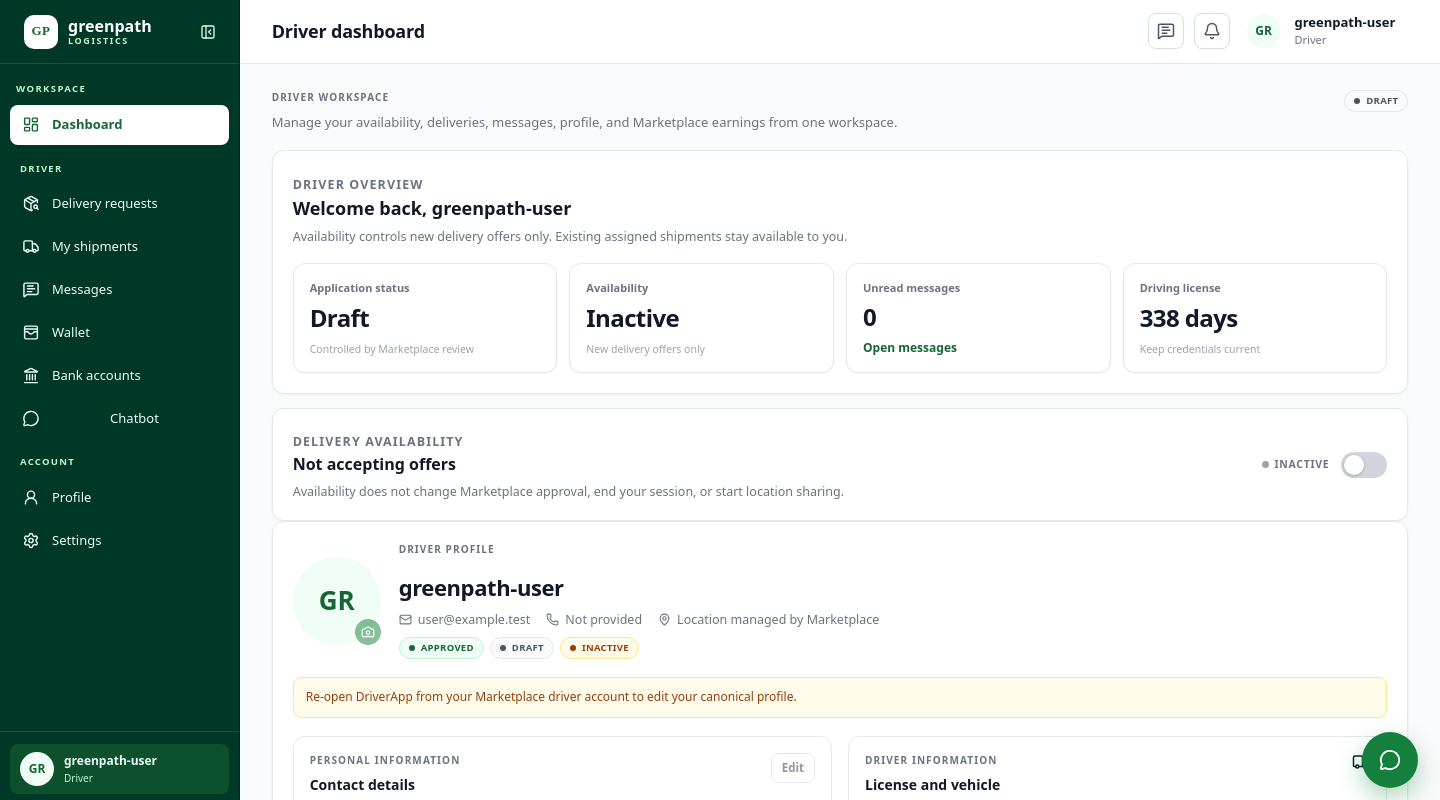
Test: Phase 2 role-aware workspace › saves the availability switch and reflects the backend state
Step 1. Click the switch named "Available for new delivery offers" → (1364, 465), box x1=1341 y1=452 x2=1387 y2=478
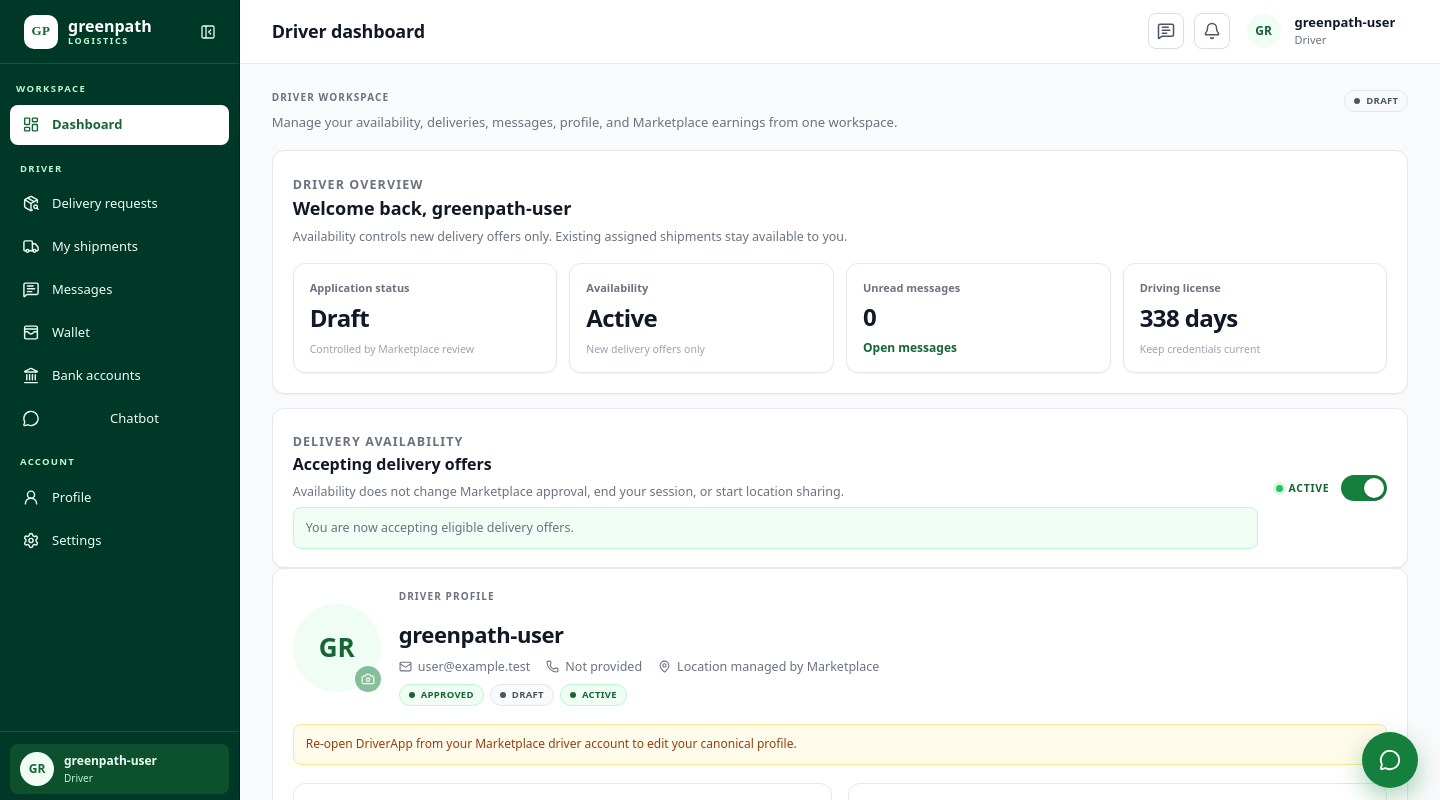
Expected: the text "ACTIVE" is shown, x1=1276 y1=480 x2=1329 y2=496
Expected: the switch named "Available for new delivery offers" is checked, x1=1341 y1=475 x2=1387 y2=501
